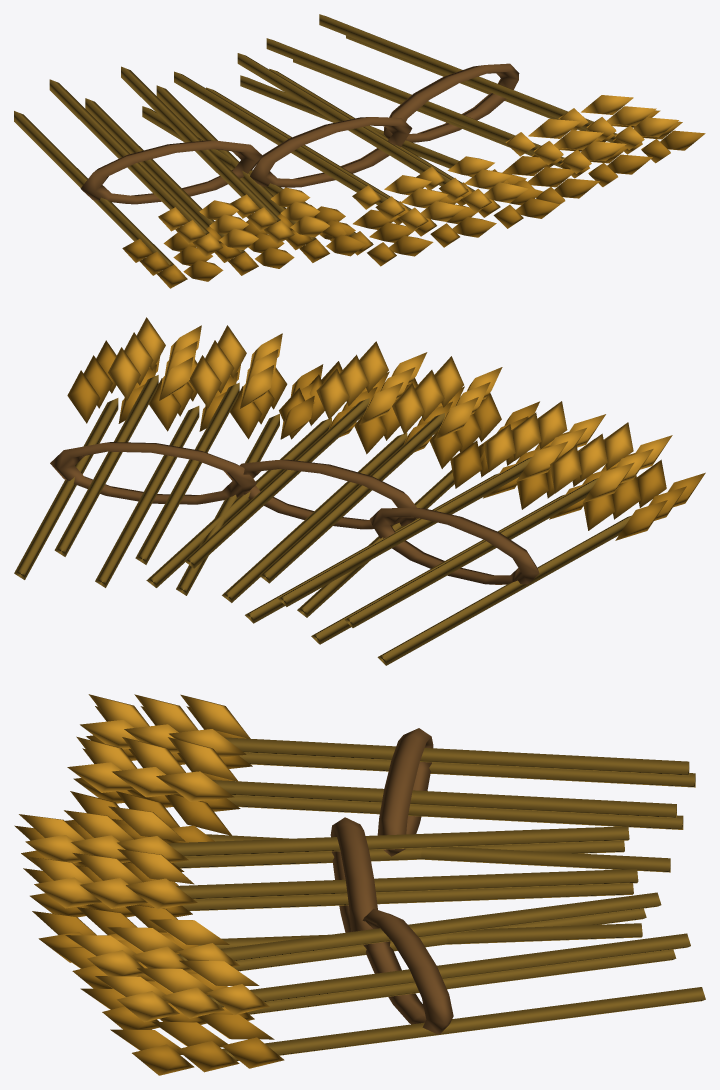
Rendered from pile-rice-3.obj.
3 views of the same model, one above another, from view 1: azimuth 30°, elevation 25°; view 2: azimuth 150°, elevation 25°; view 3: azimuth 270°, elevation 25° (orthographic). The views are drawn at different scales.
Parts seen in each view (by area): view 1: pile-rice-3; view 2: pile-rice-3; view 3: pile-rice-3.
Part boxes in pixels (box(x1,y1,x2,y2)): pile-rice-3: box(14, 14, 705, 288); pile-rice-3: box(14, 317, 705, 665); pile-rice-3: box(14, 694, 705, 1075).
Bounding box in the file's own units: 0.5971 × 0.0659 × 0.5007.
1 material, 1 textured.
